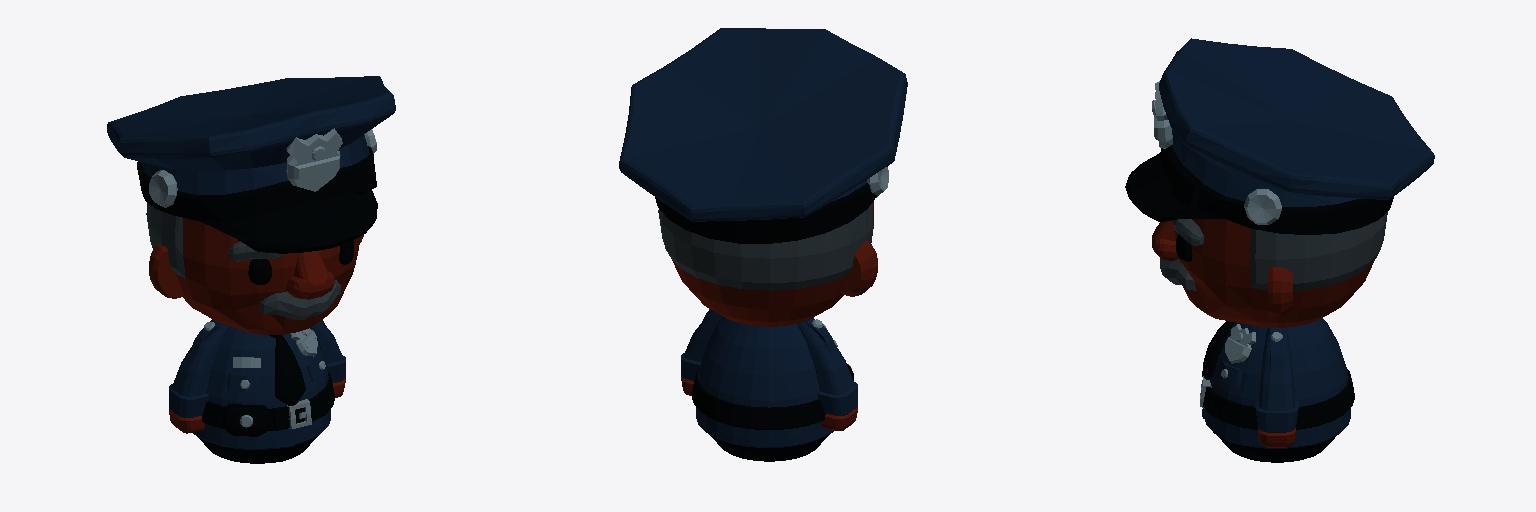
File: character_policeman.obj
3 renders of one model, left to right at view 1: azimuth 30°, elevation 25°; view 2: azimuth 150°, elevation 25°; view 3: azimuth 270°, elevation 25°, orthographic.
Visible parts, largest first — view 1: character_policeman_head_Cube.438, character_policeman_body_Cube.437, character_policeman_armRight_Cube.436, character_policeman_armLeft_Cube.435; view 2: character_policeman_head_Cube.438, character_policeman_body_Cube.437, character_policeman_armRight_Cube.436, character_policeman_armLeft_Cube.435; view 3: character_policeman_head_Cube.438, character_policeman_body_Cube.437, character_policeman_armLeft_Cube.435.
Part boxes in pixels (bbox=[...]): character_policeman_head_Cube.438: bbox=[107, 76, 395, 334]; character_policeman_body_Cube.437: bbox=[193, 319, 334, 463]; character_policeman_armRight_Cube.436: bbox=[169, 320, 229, 433]; character_policeman_armLeft_Cube.435: bbox=[310, 319, 345, 397]; character_policeman_head_Cube.438: bbox=[619, 28, 907, 326]; character_policeman_body_Cube.437: bbox=[692, 317, 853, 461]; character_policeman_armRight_Cube.436: bbox=[797, 318, 857, 430]; character_policeman_armLeft_Cube.435: bbox=[681, 309, 723, 395]; character_policeman_head_Cube.438: bbox=[1125, 38, 1434, 327]; character_policeman_body_Cube.437: bbox=[1200, 318, 1354, 462]; character_policeman_armLeft_Cube.435: bbox=[1255, 327, 1298, 447].
Bounding box in the file's own units: 1.44 × 1.95 × 1.48.